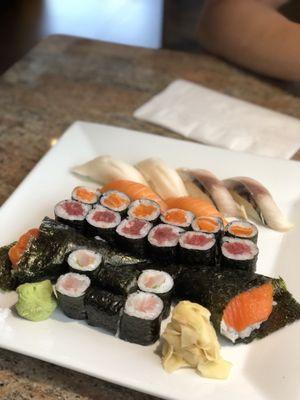curry: (0, 7, 300, 397)
sushi: (117, 291, 164, 346)
